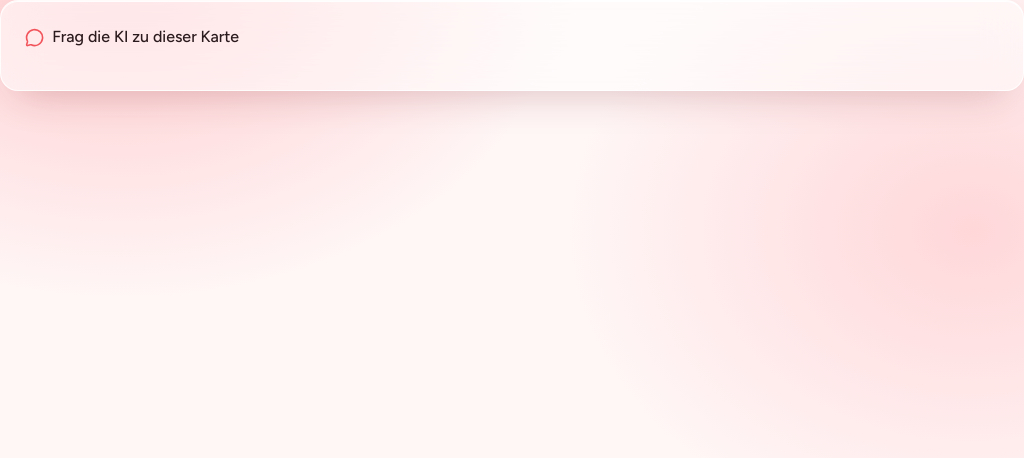
Scenario: CardChat › puts the question back into the field if the AI is not available
The image size is (1024, 458).
Click the heading "Frag die KI zu dieser Karte" at (132, 37), box [25,27,239,47]
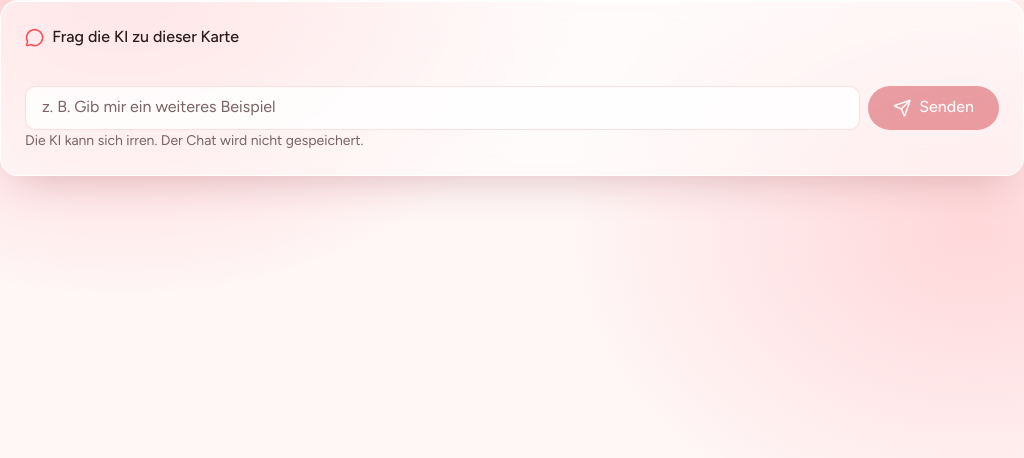
Type "Warum?" into the field named "Frage an die KI" at (442, 108), box [25,86,860,130]
Then press Enter
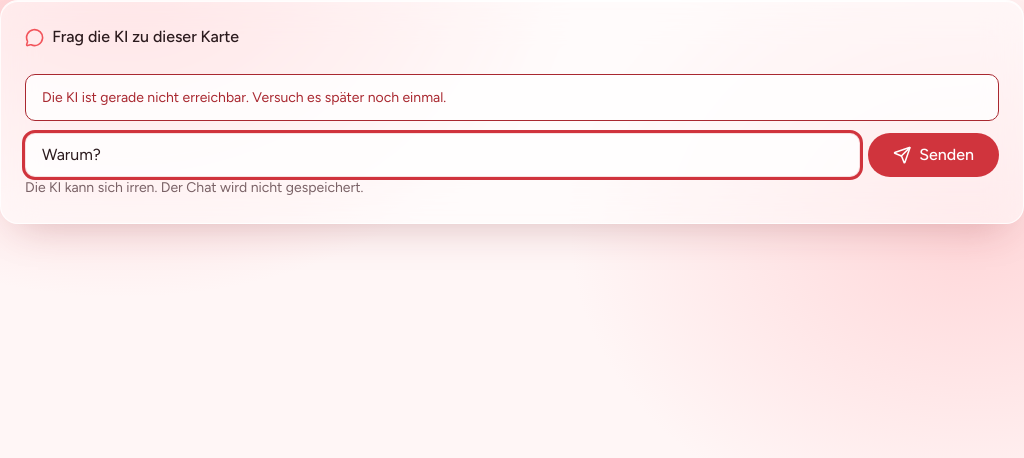
Now the message shows "Die KI ist gerade nicht erreichbar", box [42,89,446,106]
